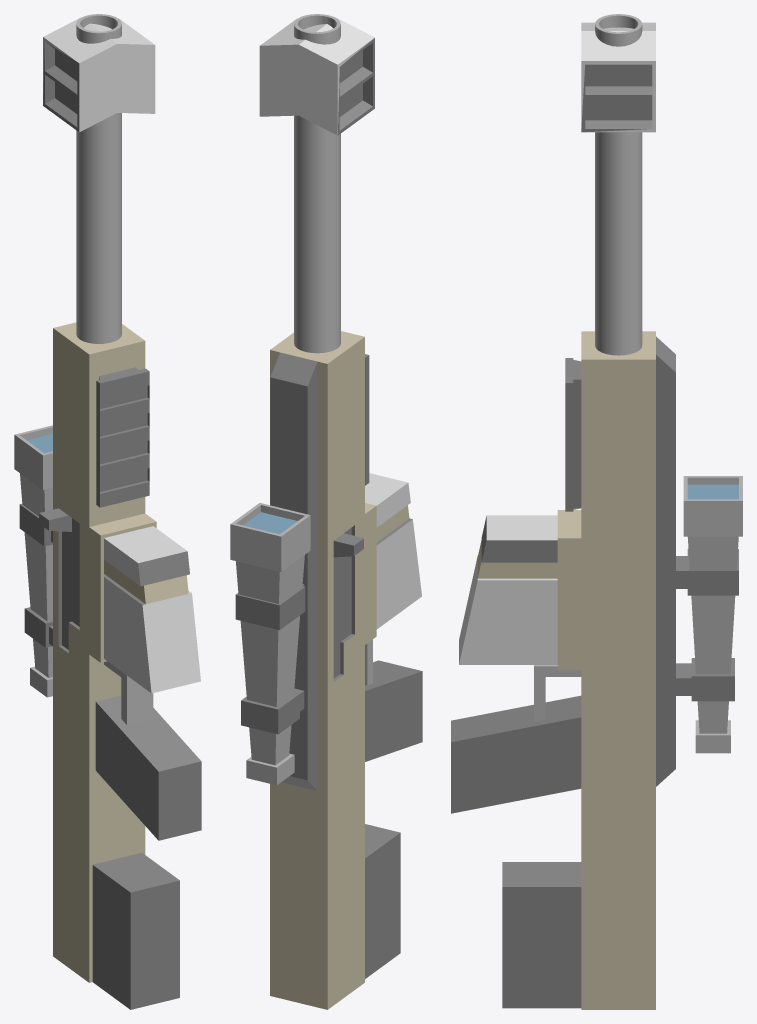
File: snipercamo.fbx
The picture shows the model from 3 angles, left to right: view 1: azimuth 30°, elevation 25°; view 2: azimuth 150°, elevation 25°; view 3: azimuth 270°, elevation 25°; orthographic projection. The views are drawn at different scales.
Visible parts, largest first — view 1: imagetostl_mesh369, imagetostl_mesh349, imagetostl_mesh67, imagetostl_mesh345, imagetostl_mesh24, imagetostl_mesh206, imagetostl_mesh23, imagetostl_mesh378, imagetostl_mesh215, imagetostl_mesh355, imagetostl_mesh214, imagetostl_mesh351 (+50 smaller); view 2: imagetostl_mesh217, imagetostl_mesh369, imagetostl_mesh57, imagetostl_mesh220, imagetostl_mesh345, imagetostl_mesh206, imagetostl_mesh23, imagetostl_mesh215, imagetostl_mesh226, imagetostl_mesh214, imagetostl_mesh259, imagetostl_mesh216 (+41 smaller); view 3: imagetostl_mesh196, imagetostl_mesh342, imagetostl_mesh353, imagetostl_mesh221, imagetostl_mesh26, imagetostl_mesh260, imagetostl_mesh326, imagetostl_mesh350, imagetostl_mesh36, imagetostl_mesh68, imagetostl_mesh43, imagetostl_mesh318 (+22 smaller).
Boxes of the visible parts, x1,y1,x2,y2 form: imagetostl_mesh369: (53, 655, 158, 982); imagetostl_mesh349: (130, 880, 179, 1009); imagetostl_mesh67: (79, 44, 155, 132); imagetostl_mesh345: (92, 865, 130, 1009); imagetostl_mesh24: (142, 593, 200, 693); imagetostl_mesh206: (68, 653, 89, 981); imagetostl_mesh23: (104, 577, 151, 693); imagetostl_mesh378: (89, 341, 145, 526); imagetostl_mesh215: (53, 328, 88, 507); imagetostl_mesh355: (158, 761, 201, 840); imagetostl_mesh214: (59, 355, 89, 526); imagetostl_mesh351: (92, 771, 141, 864); imagetostl_mesh217: (270, 350, 327, 1009); imagetostl_mesh369: (327, 671, 422, 1009); imagetostl_mesh57: (259, 44, 337, 135); imagetostl_mesh220: (307, 362, 317, 790); imagetostl_mesh345: (365, 833, 400, 978); imagetostl_mesh206: (344, 645, 364, 981); imagetostl_mesh23: (376, 519, 421, 629); imagetostl_mesh215: (327, 337, 364, 539); imagetostl_mesh226: (270, 377, 307, 583); imagetostl_mesh214: (333, 337, 364, 539); imagetostl_mesh259: (240, 621, 278, 706); imagetostl_mesh216: (327, 369, 333, 995); imagetostl_mesh196: (557, 359, 655, 1009); imagetostl_mesh342: (502, 887, 581, 1008); imagetostl_mesh353: (451, 717, 581, 813); imagetostl_mesh221: (656, 355, 675, 786); imagetostl_mesh26: (459, 580, 557, 664); imagetostl_mesh260: (691, 595, 735, 674); imagetostl_mesh326: (683, 501, 742, 536); imagetostl_mesh350: (502, 862, 581, 886); imagetostl_mesh36: (486, 515, 557, 540); imagetostl_mesh68: (581, 31, 655, 60); imagetostl_mesh43: (481, 540, 557, 562); imagetostl_mesh318: (687, 536, 738, 569).
Bounding box in the file's own units: 1.56 × 16.32 × 4.44.
